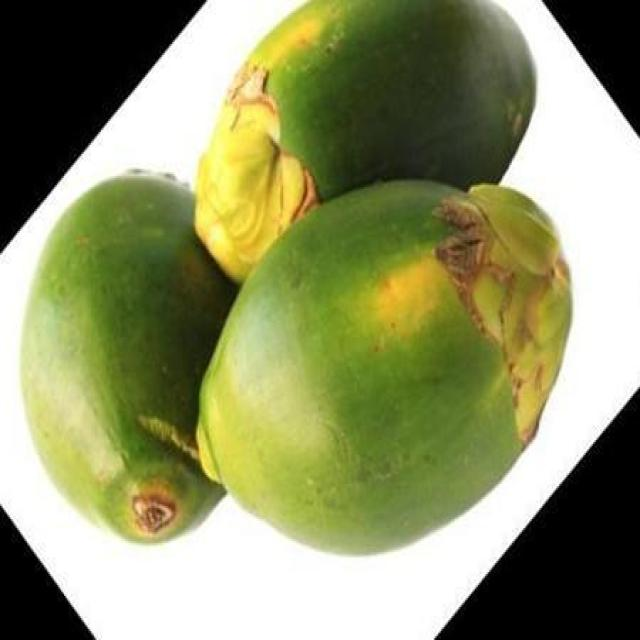good: (193, 180, 576, 556), (195, 0, 536, 286), (14, 169, 240, 554)
